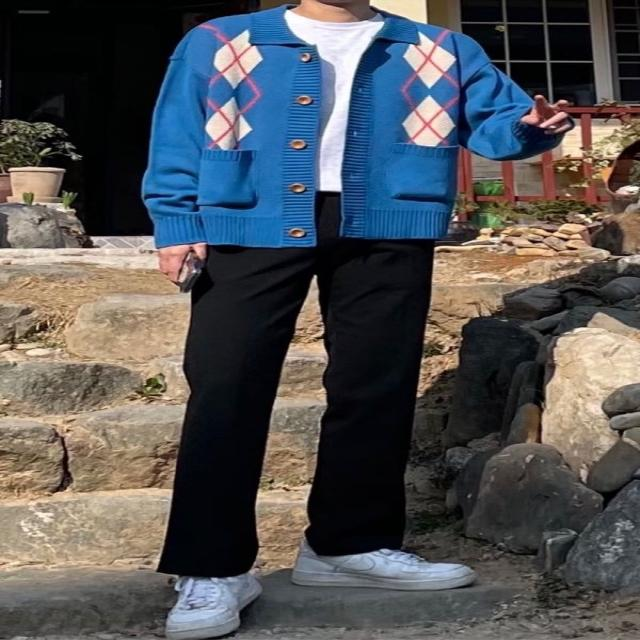cardigan: (141, 3, 564, 249)
slacks: (156, 191, 432, 582)
